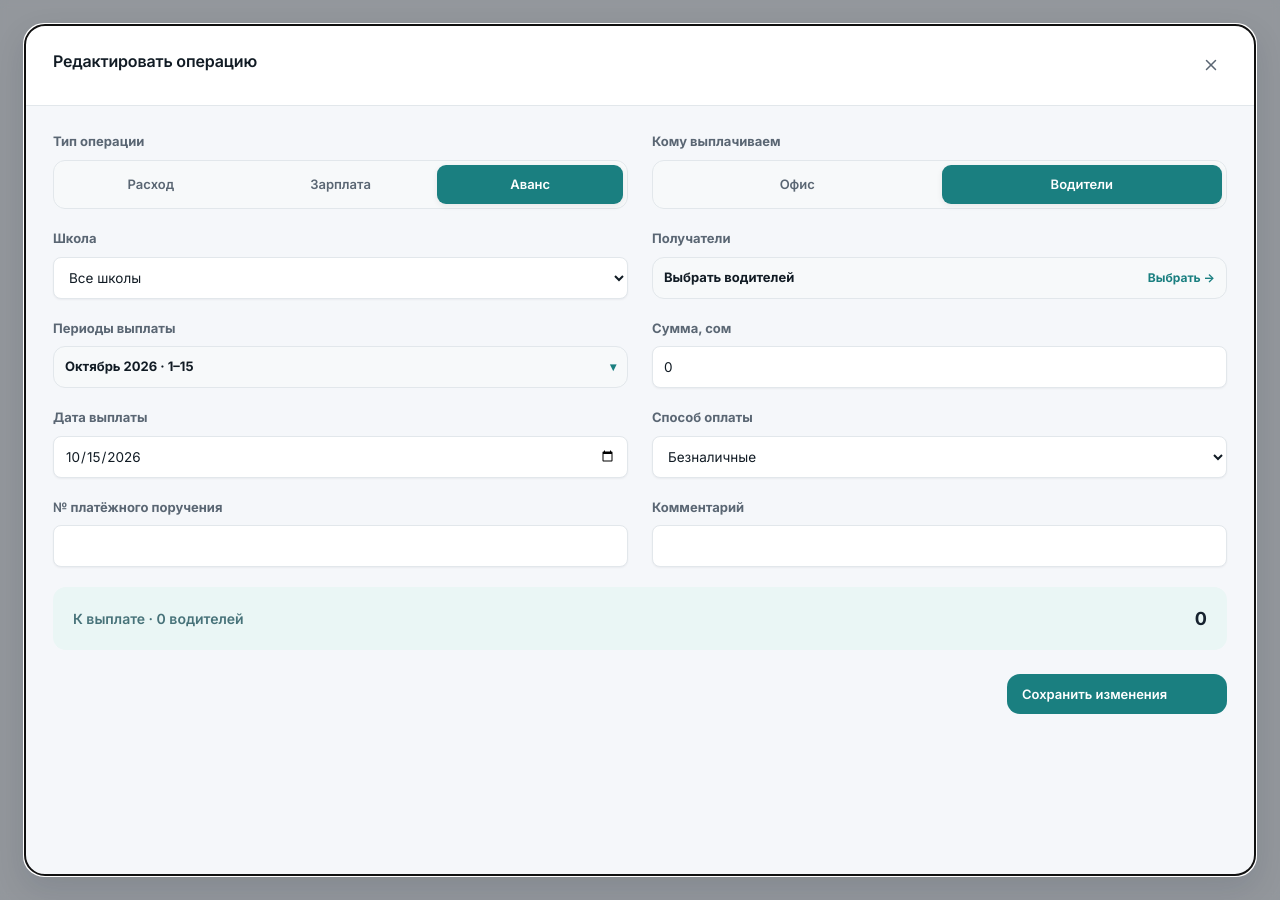
if the old expense cannot be removed, the new driver advance is rolled back
This screenshot has width=1280, height=900.
Step 1. Click the button named "Получатели" → (729, 277), box [652,256,1227,298]
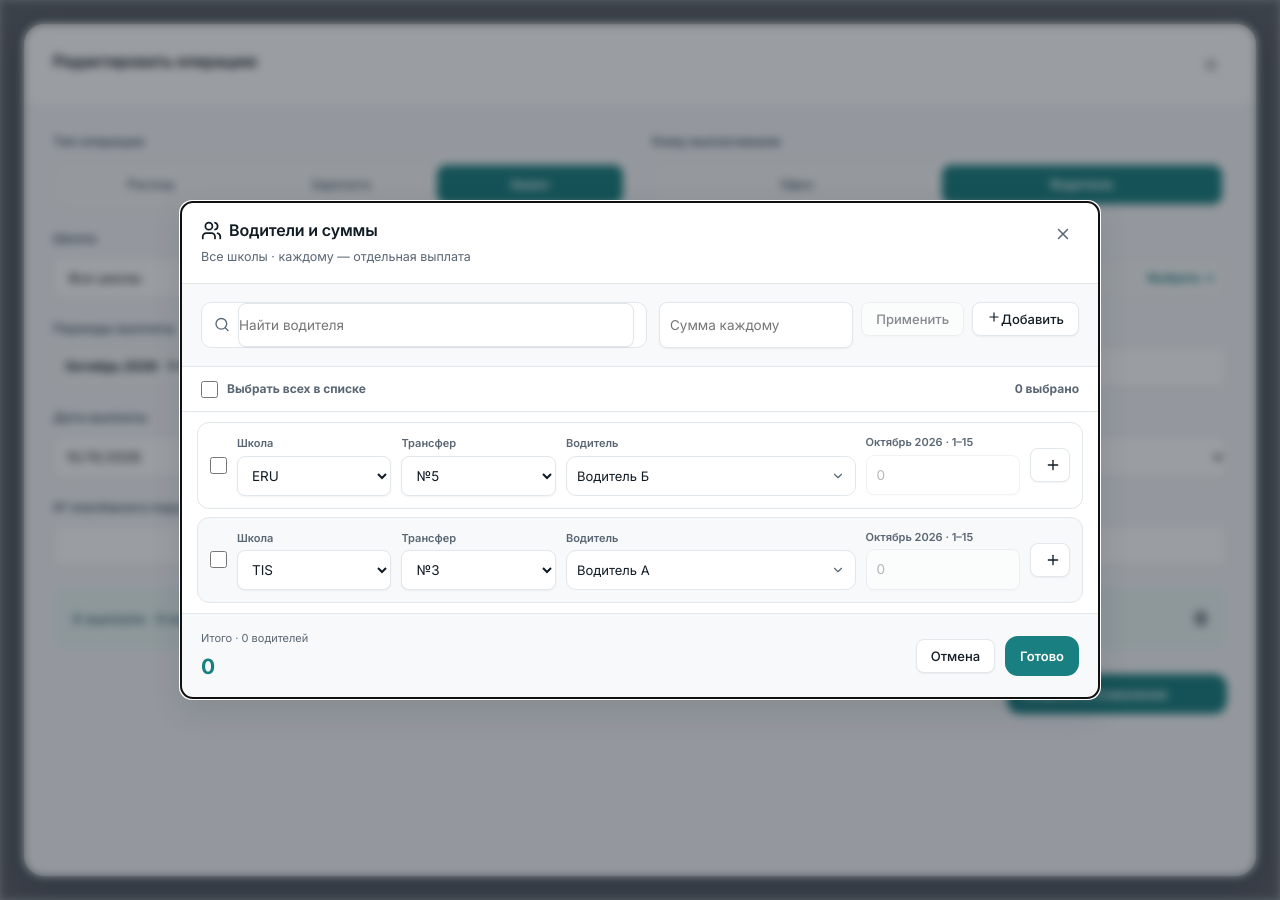
Step 2. Click the checkbox named "Водитель А" → (218, 560), box [210,551,227,568]
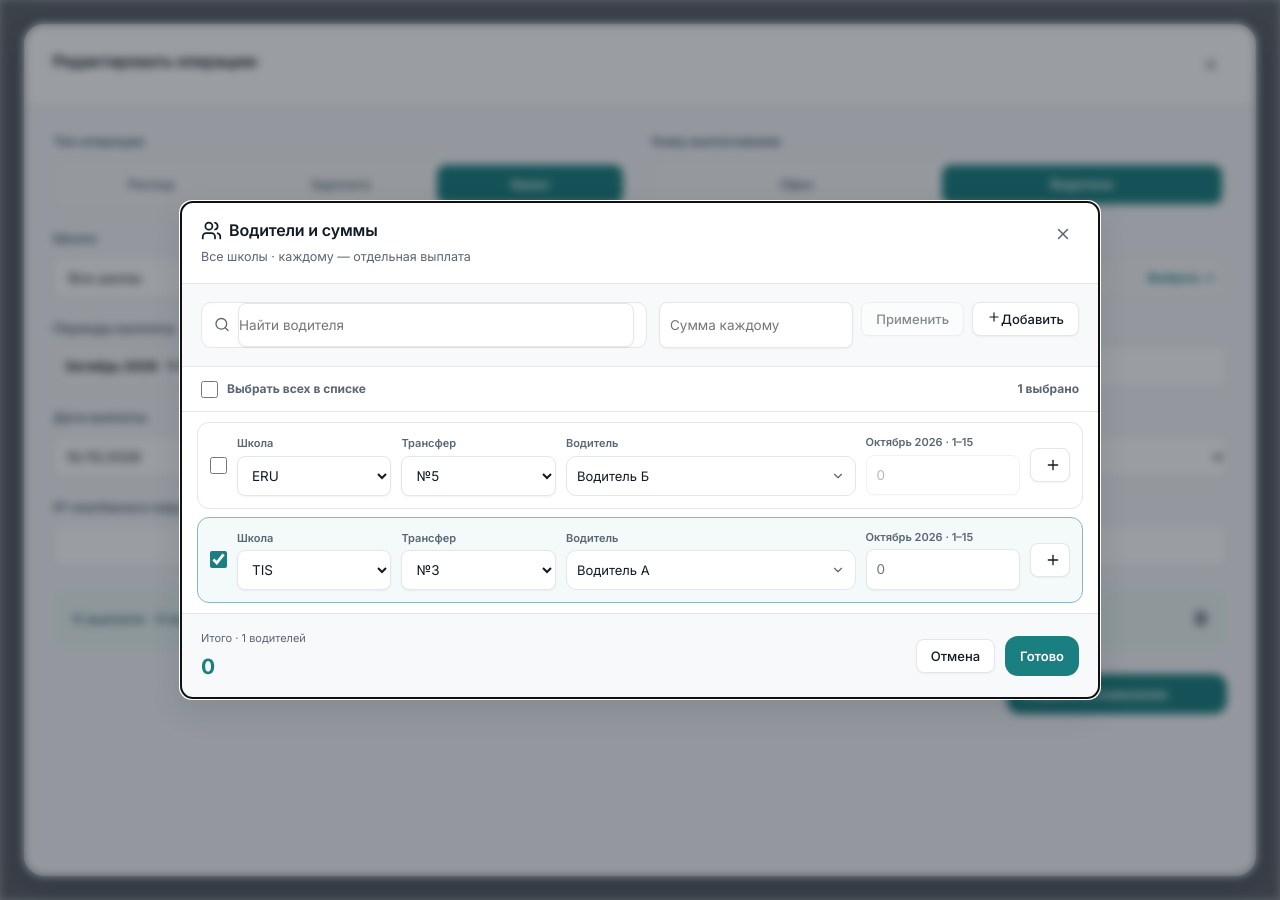
Step 3. Type "10000" into the number field named "Сумма для Водитель А за" → (943, 569), box [866,549,1020,590]
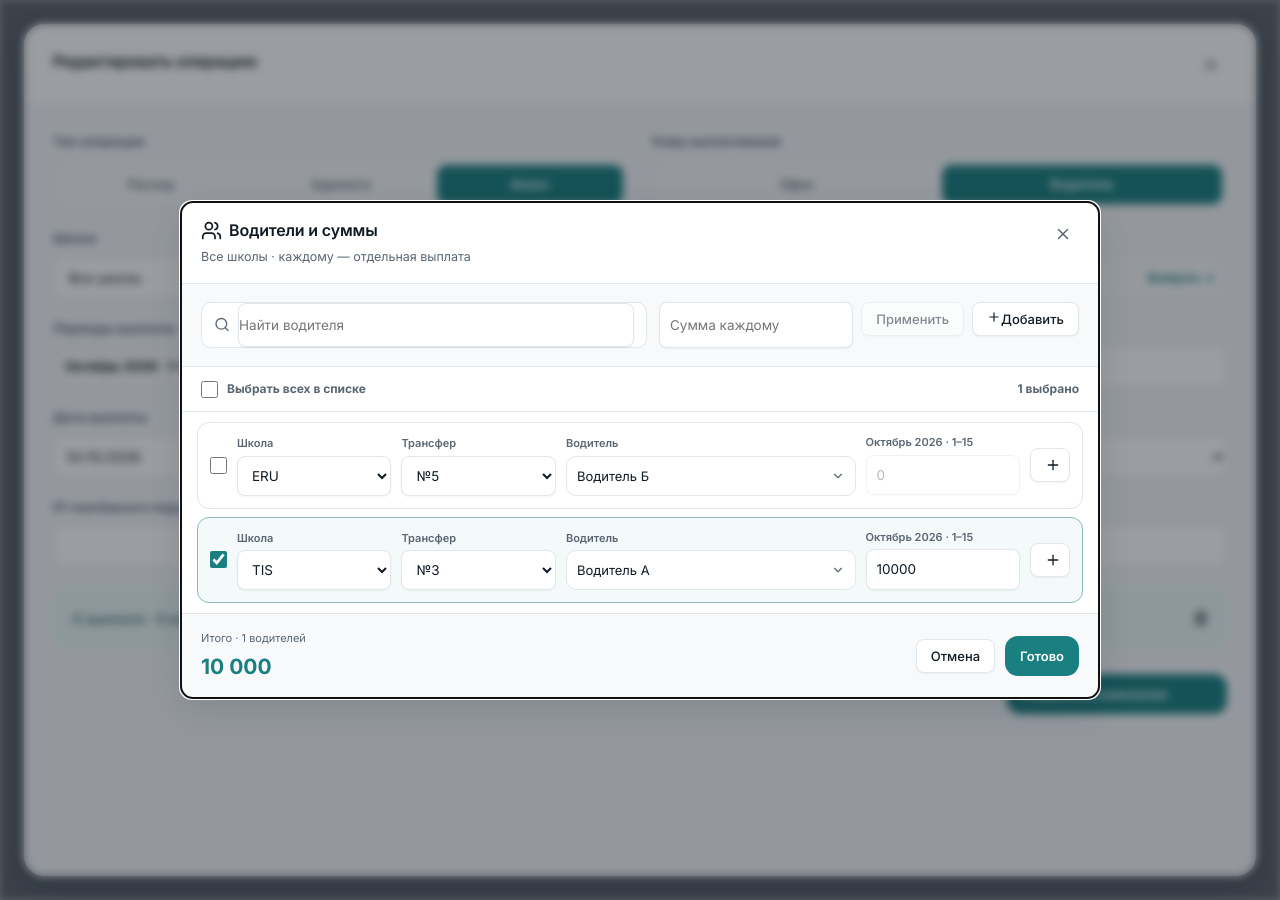
Step 4. Click the button "Готово" → (1042, 656), box [1005,636,1079,676]
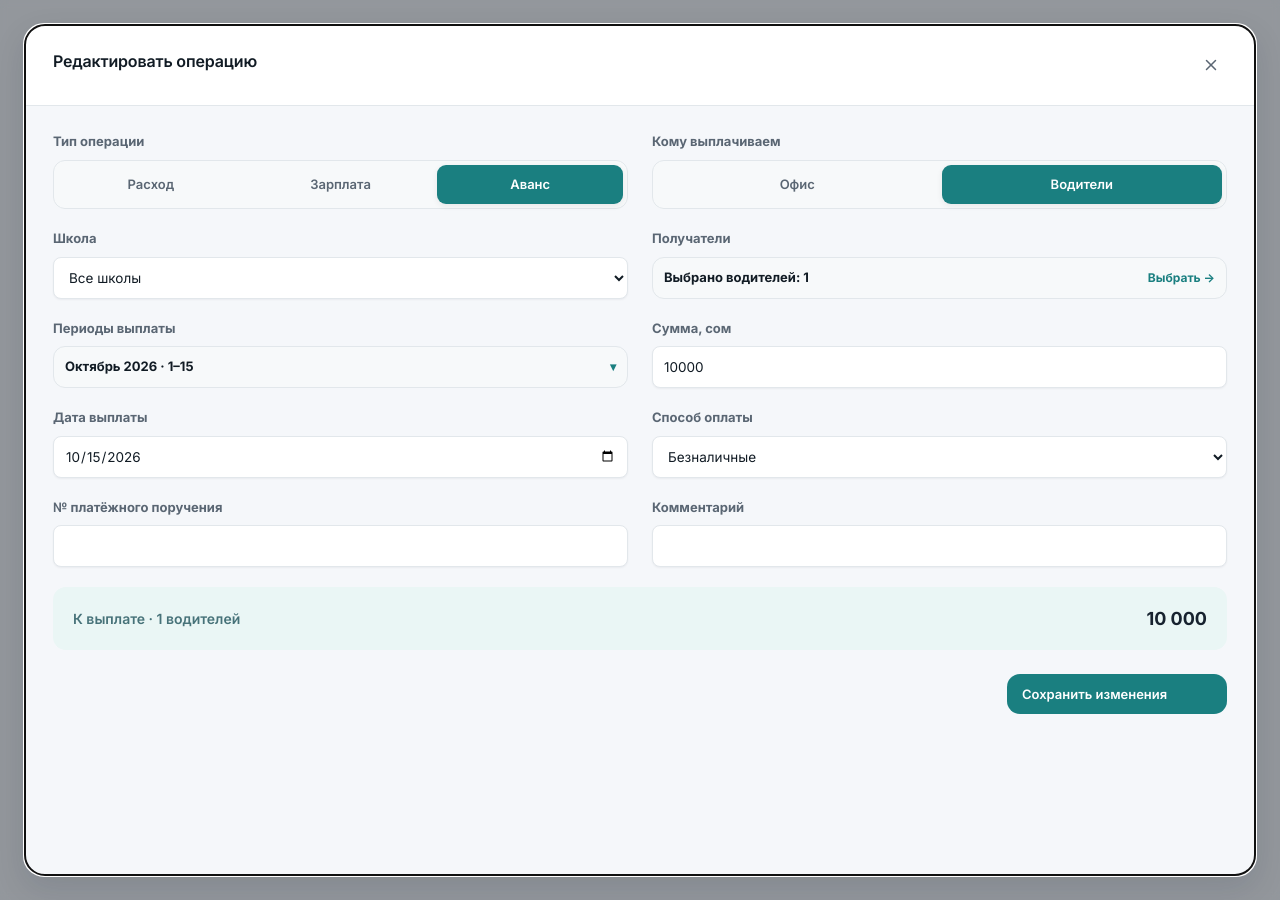
Step 5. Click the button "Сохранить изменения" → (1117, 694), box [1007,674,1227,714]
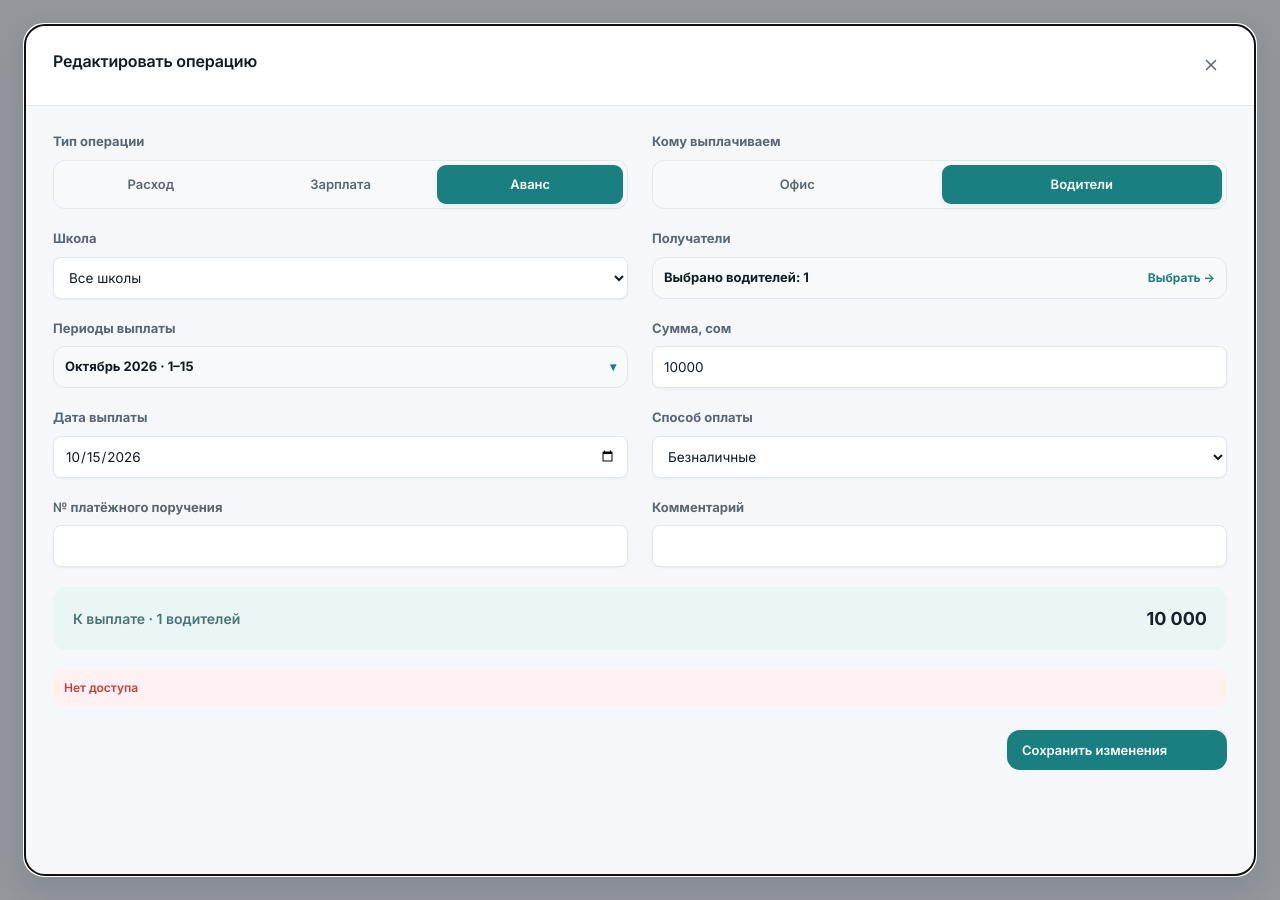
Result: the text "Нет доступа" is shown at [53,670,1227,706]
